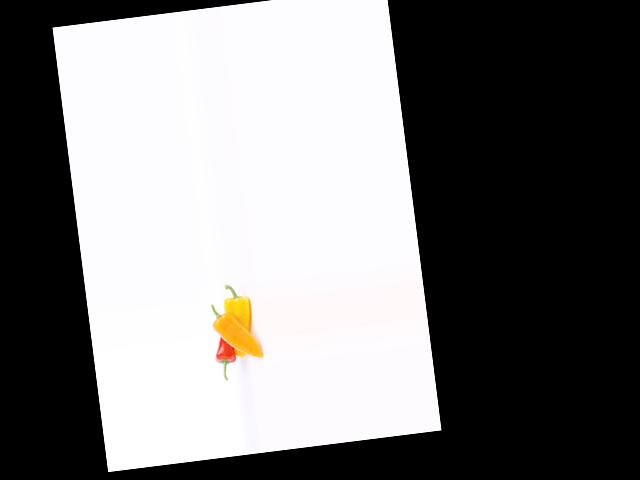bell_pepper: (217, 279, 259, 340)
